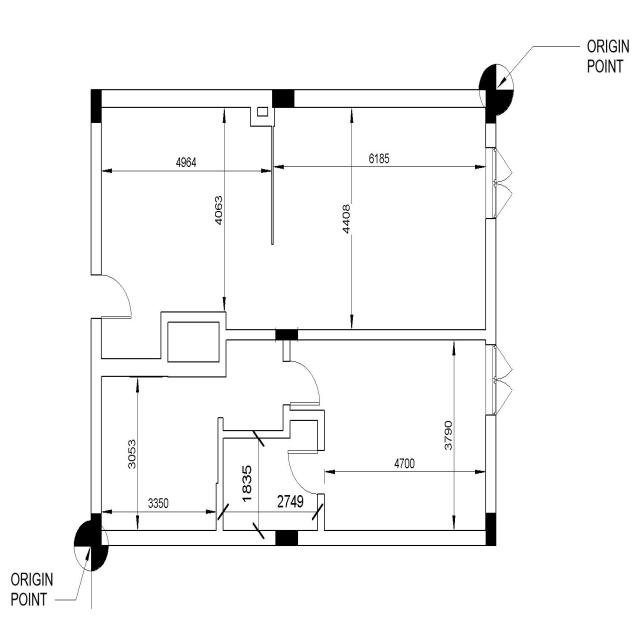Column: (271, 88, 297, 110), (484, 87, 498, 123), (90, 87, 102, 125), (485, 512, 496, 547), (92, 511, 102, 549), (275, 530, 298, 546), (275, 329, 298, 340)
Door: (283, 356, 323, 412), (285, 444, 323, 501), (91, 271, 132, 322)
Window: (486, 146, 516, 226), (487, 342, 514, 423)
